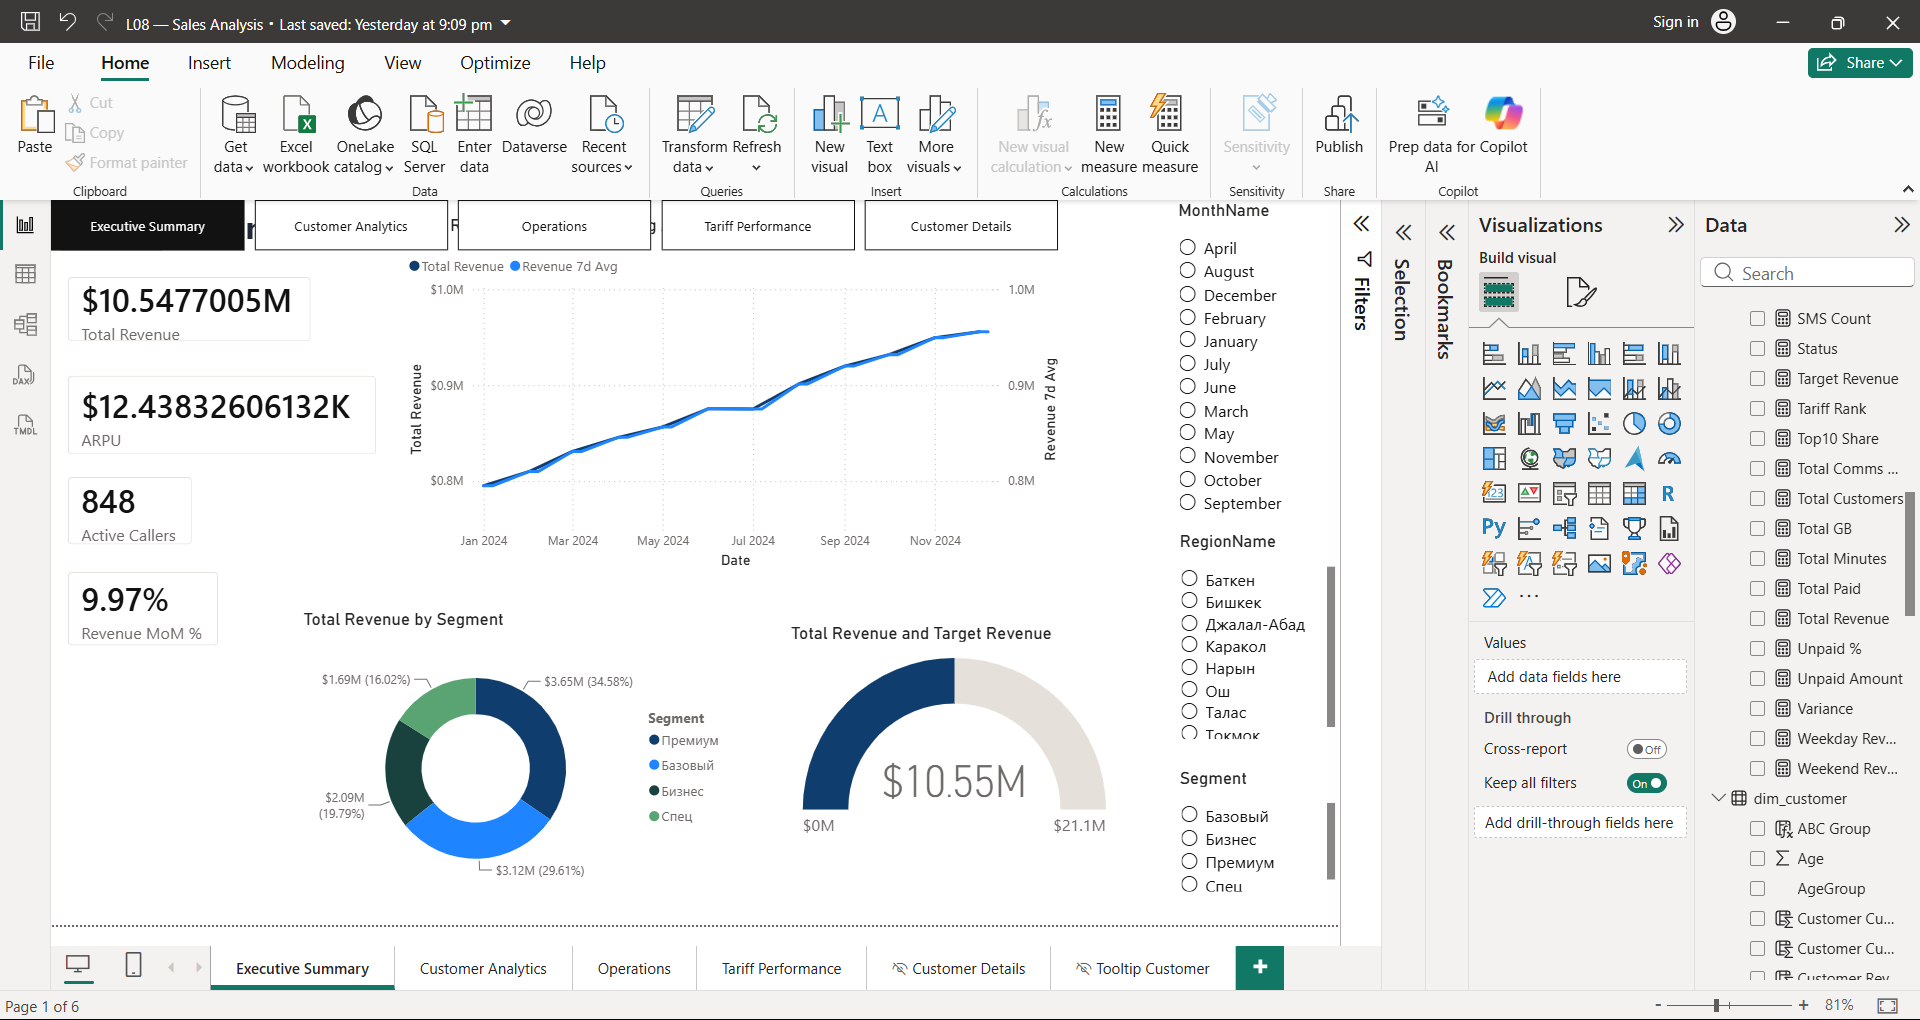

Layout of this report page (visuals, bound fields, positions):
{"tool":"powerbi","page":{"name":"Executive Summary","canvas":[1280,720],"ordinal":1},"visuals":[{"type":"cardVisual","fields":{"Data":["_Measures.Total Revenue"]},"box":[0,59,275.8,98.8],"z":0},{"type":"cardVisual","fields":{"Data":["_Measures.ARPU"]},"box":[0,157.8,340.3,112.5],"z":1},{"type":"cardVisual","fields":{"Data":["_Measures.Active Callers"]},"box":[0,258,157.8,101.5],"z":2},{"type":"textbox","box":[0,0,330.7,52.1],"z":4},{"type":"listSlicer","fields":{"Values":["dim_date.MonthName"]},"box":[1114.2,0,166,387],"z":5},{"type":"listSlicer","fields":{"Values":["dim_region.RegionName"]},"box":[1115.6,329.3,164.7,211.3],"z":6},{"type":"listSlicer","fields":{"Values":["dim_tariff.Segment"]},"box":[1115.6,564,164.7,129],"z":7},{"type":"cardVisual","fields":{"Data":["_Measures.Revenue MoM %"]},"box":[0,352.7,183.9,107],"z":8},{"type":"gauge","fields":{"Y":["_Measures.Total Revenue"],"TargetValue":["_Measures.Target Revenue"]},"box":[730,419.9,334.8,222.3],"z":9},{"type":"lineChart","title":"Daily Revenue and 7-Day Moving Average","fields":{"Category":["dim_date.Date"],"Y":["_Measures.Total Revenue"],"Y2":["_Measures.Revenue 7d Avg"]},"box":[349.9,15.1,654.5,355.4],"z":10},{"type":"donutChart","fields":{"Category":["dim_tariff.Segment"],"Y":["_Measures.Total Revenue"]},"box":[245.6,406.2,432.2,286.8],"z":11},{"type":"actionButton","box":[0,0,100,40],"z":13},{"type":"actionButton","box":[10,10,100,40],"z":14},{"type":"pageNavigator","box":[0,0,1000,50],"z":15}]}

Visuals, with their boxes on the page's 1280x720 design canvas (x1, y1, x2, y2). These are canvas units, not pixel positions in the 1920x1020 screenshot, which may show the page scaled, cropped or inside an application window:
cardVisual - _Measures.Total Revenue: 0 59 276 158
cardVisual - _Measures.ARPU: 0 158 340 270
cardVisual - _Measures.Active Callers: 0 258 158 360
textbox: 0 0 331 52
listSlicer - dim_date.MonthName: 1114 0 1280 387
listSlicer - dim_region.RegionName: 1116 329 1280 541
listSlicer - dim_tariff.Segment: 1116 564 1280 693
cardVisual - _Measures.Revenue MoM %: 0 353 184 460
gauge - _Measures.Total Revenue x _Measures.Target Revenue: 730 420 1065 642
"Daily Revenue and 7-Day Moving Average" lineChart: 350 15 1004 370
donutChart - dim_tariff.Segment x _Measures.Total Revenue: 246 406 678 693
actionButton: 0 0 100 40
actionButton: 10 10 110 50
pageNavigator: 0 0 1000 50
